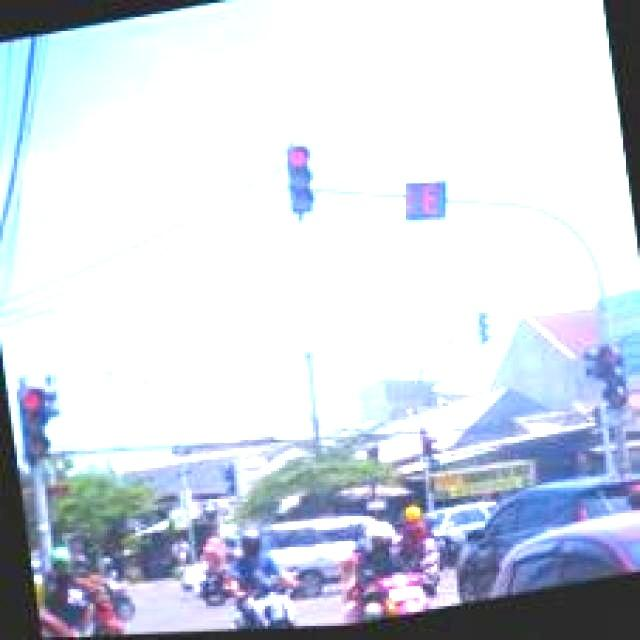Red: (13, 369, 57, 473), (280, 136, 318, 226)
